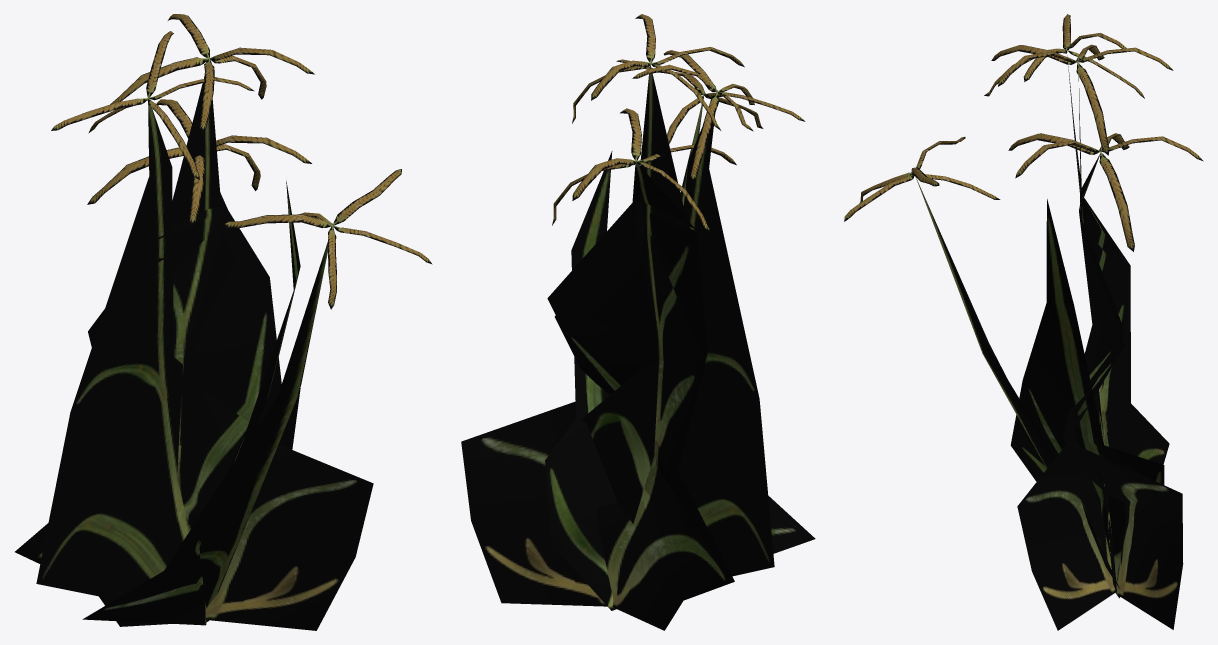
The model's file is grass_c.glb.
3 renders of one model, left to right at view 1: azimuth 30°, elevation 25°; view 2: azimuth 150°, elevation 25°; view 3: azimuth 270°, elevation 25°, orthographic. The views are drawn at different scales.
Visible parts, largest first — view 1: grass_bermuda_01_seedling_d; view 2: grass_bermuda_01_seedling_d; view 3: grass_bermuda_01_seedling_d.
Part boxes in pixels (x1,y1,x2,y2): grass_bermuda_01_seedling_d: (15,14,432,630); grass_bermuda_01_seedling_d: (461,14,815,630); grass_bermuda_01_seedling_d: (844,14,1203,630).
Bounding box in the file's own units: 0.3165 × 0.5884 × 0.35.
1 material, 1 textured.
